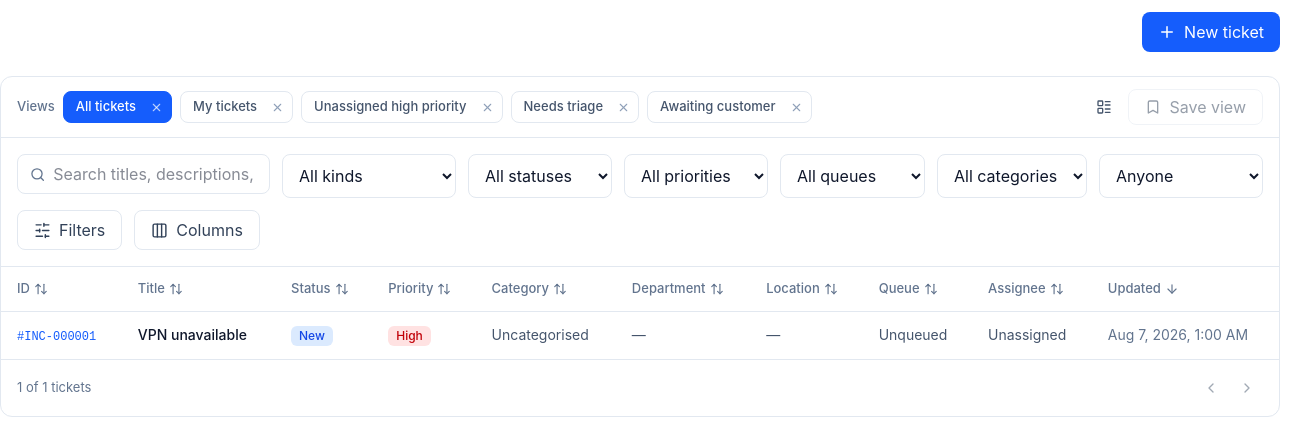
TicketListPage › the default views › can have every default removed
This screenshot has width=1292, height=434.
Expected: the link "VPN unavailable" is shown, [138, 326, 247, 343]
Step 1. Click the button named "Remove All tickets" → [160, 107], box [148, 92, 171, 122]
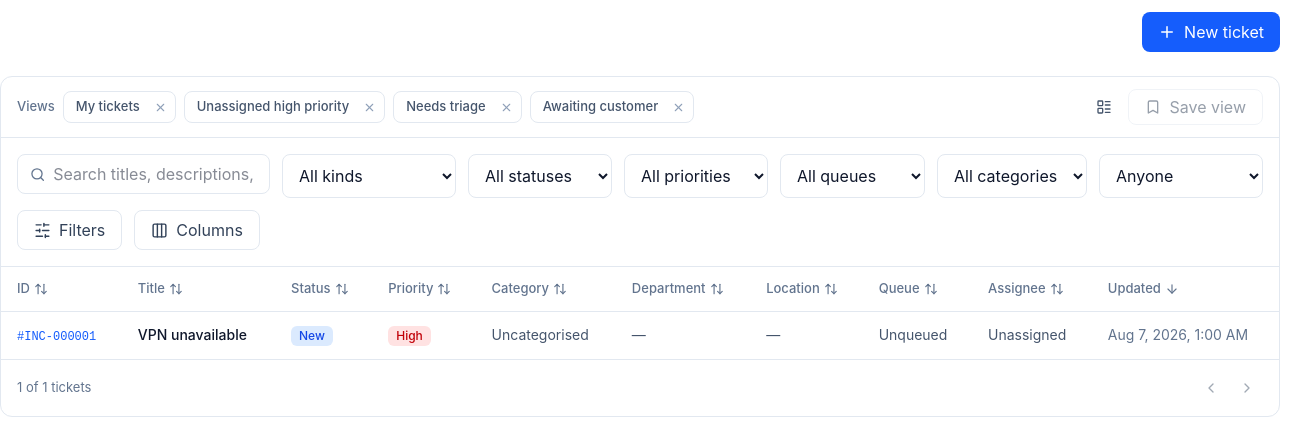
Step 2. Click the button named "Remove My tickets" → [163, 107], box [152, 92, 175, 122]
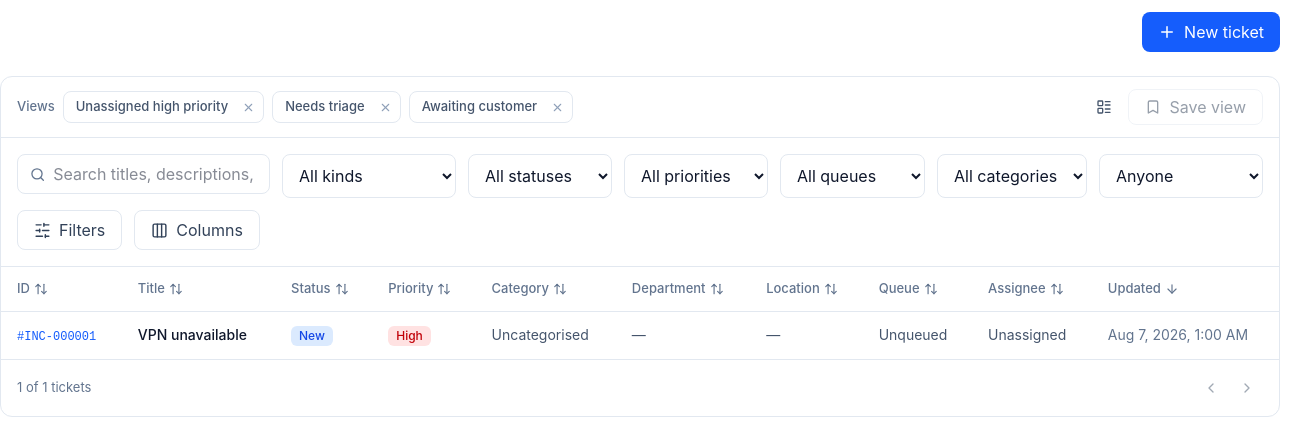
Step 3. Click the button named "Remove Unassigned high priority" → [252, 107], box [240, 92, 263, 122]
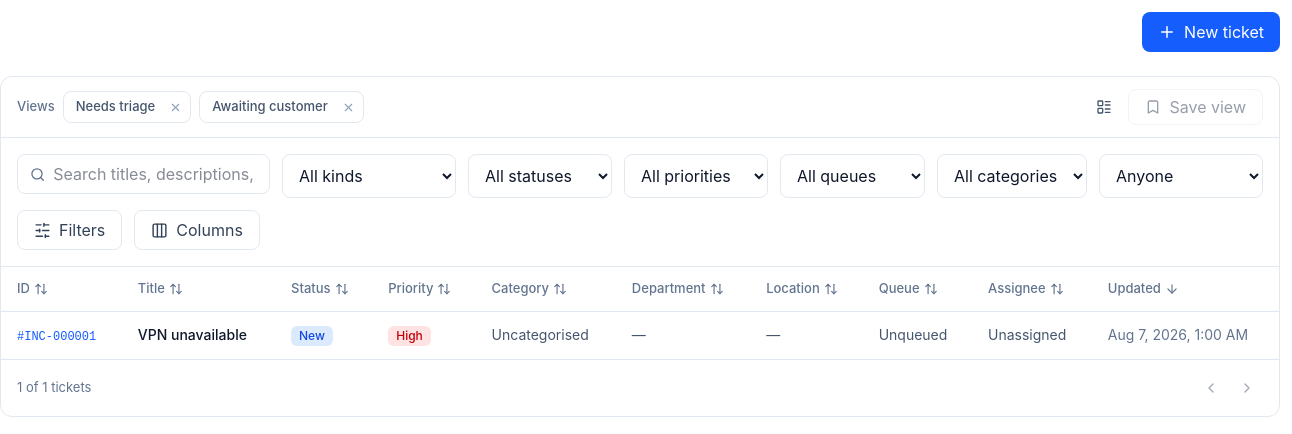
Step 4. Click the button named "Remove Needs triage" → [179, 107], box [167, 92, 190, 122]
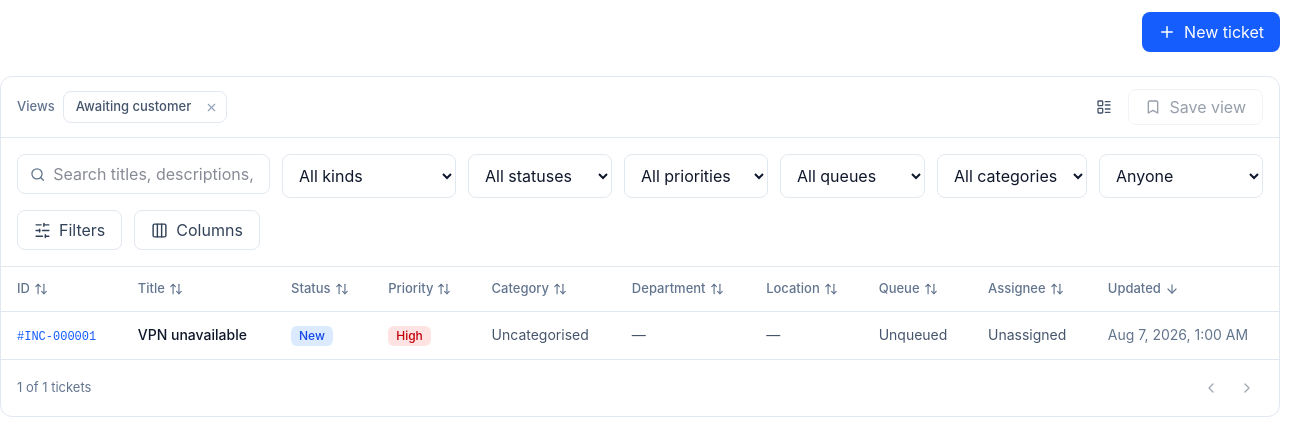
Step 5. Click the button named "Remove Awaiting customer" → [215, 107], box [203, 92, 226, 122]
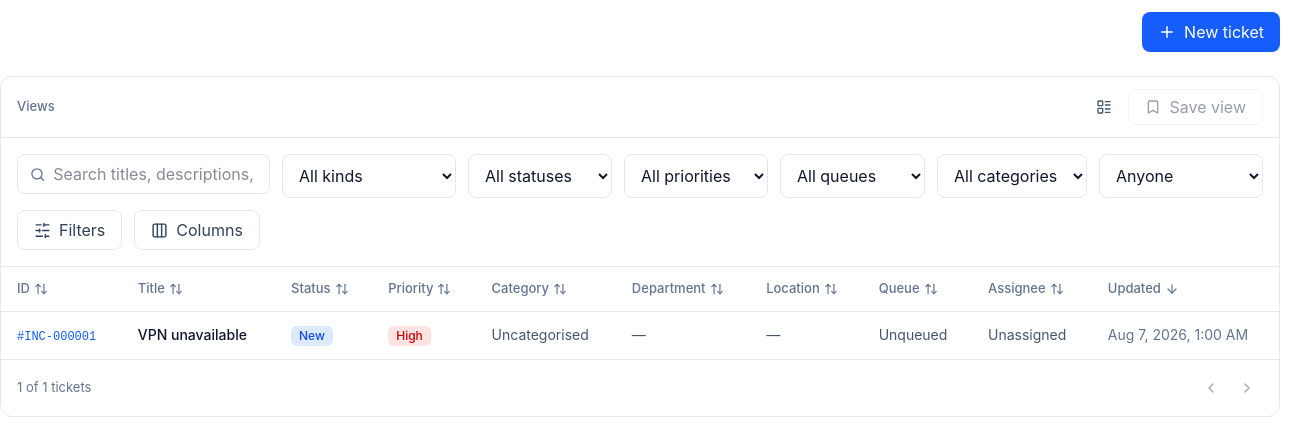
Expected: the button "All tickets" is not shown
Result: the button "Awaiting customer" is gone
